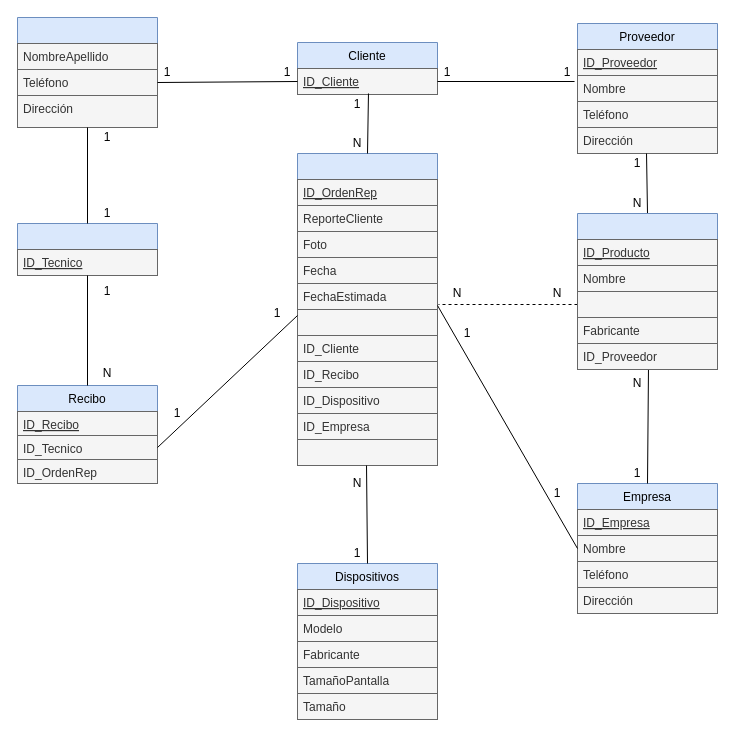
The diagram is 735 pixels wide and 740 high, and some of its shapes have lost their labels. Here are the shapes that lost their labels. From the top down, the box of each, then its label:
(16, 16, 158, 128): Persona
(16, 222, 158, 276): Técnico
(296, 152, 438, 466): Orden Reparación
(576, 212, 718, 370): Productos (y repuestos)
(576, 290, 718, 318): Descripción
(296, 308, 438, 336): Estado
(296, 438, 438, 466): ID_Respuesto
